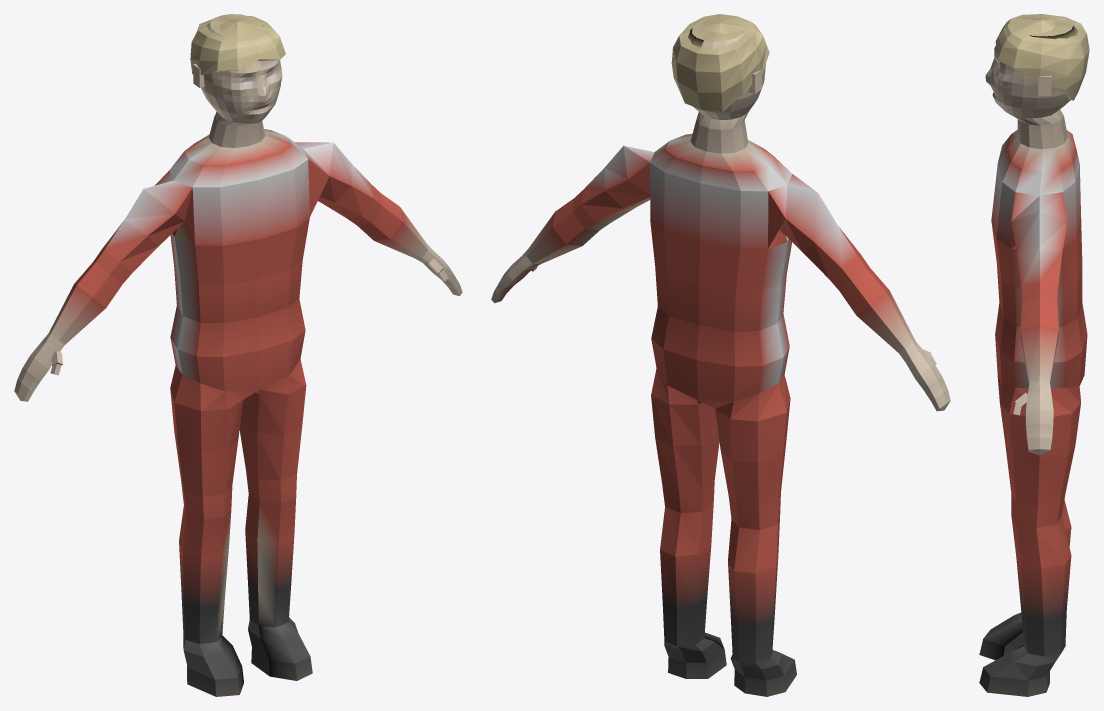
File: char__pessoa__cody.glb
3 views of the same model, side by side, from view 1: azimuth 30°, elevation 25°; view 2: azimuth 150°, elevation 25°; view 3: azimuth 270°, elevation 25° (orthographic). The views are drawn at different scales.
Parts seen in each view (by area): view 1: char__pessoa__cody; view 2: char__pessoa__cody; view 3: char__pessoa__cody.
Boxes of the visible parts, box(x1,y1,x2,y2) form: char__pessoa__cody: box(14, 14, 462, 696); char__pessoa__cody: box(491, 14, 950, 696); char__pessoa__cody: box(979, 14, 1089, 696).
Size of the model in its own units: 1.34 by 1.89 by 0.2894.
